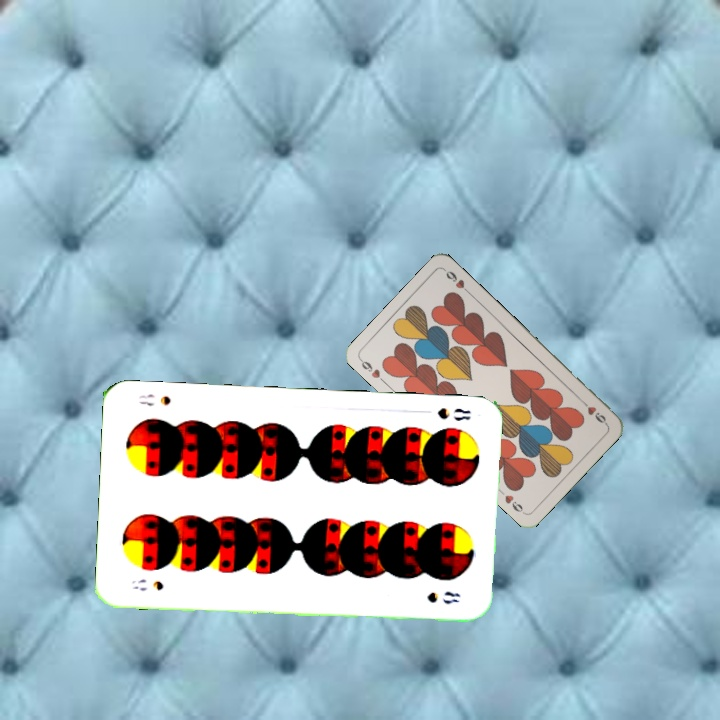H9: (356, 355, 389, 387), (577, 396, 609, 428)
S8: (433, 404, 473, 423), (128, 575, 166, 594)
